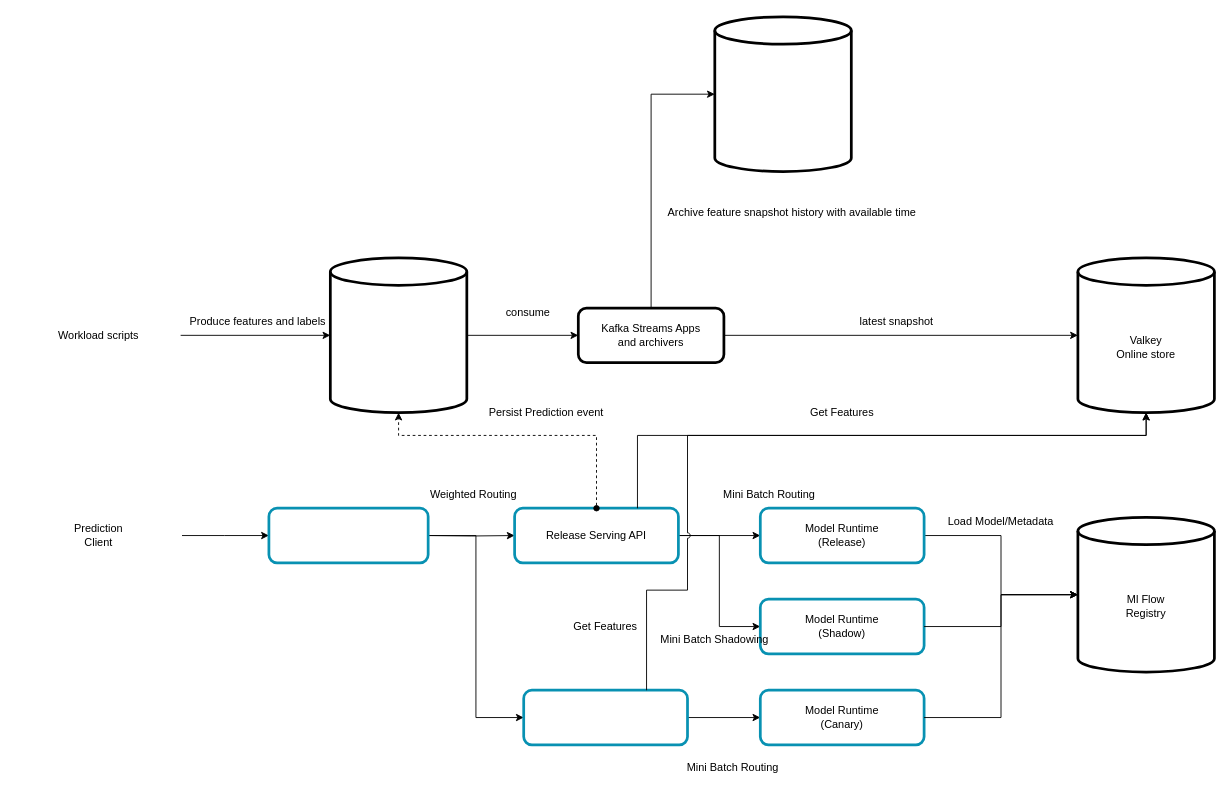
Some shapes in this 1231 by 797 pixel diagram are drawn without their labels. Each missing label, with the centre of its shape:
"Canary Serving API" goes at (x=605, y=717).
"Kafka 4 topics" goes at (x=398, y=335).
"Nginx :8080 / admin:18080" goes at (x=348, y=535).
"PostgreSQL monitoring DB" goes at (x=782, y=93).
